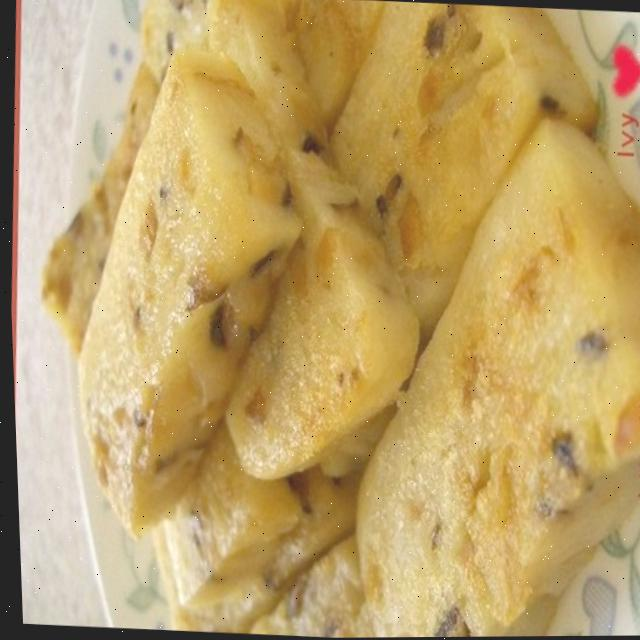蛋糕甜品: (16, 0, 640, 640)
